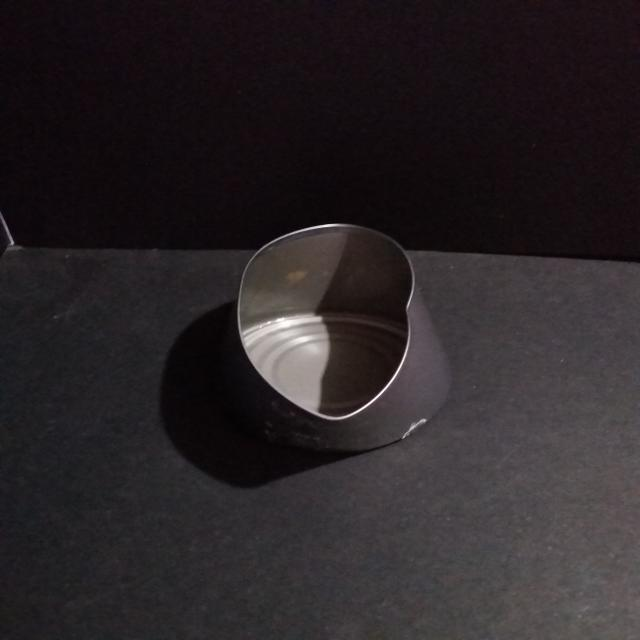Can: (236, 220, 452, 457)
